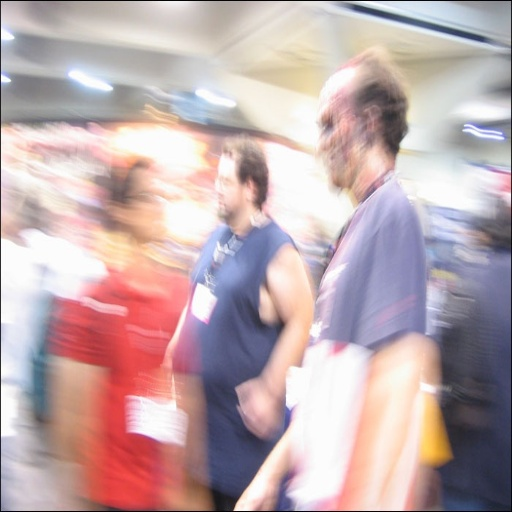hand: (234, 374, 280, 438), (232, 471, 278, 510), (160, 350, 174, 401)
